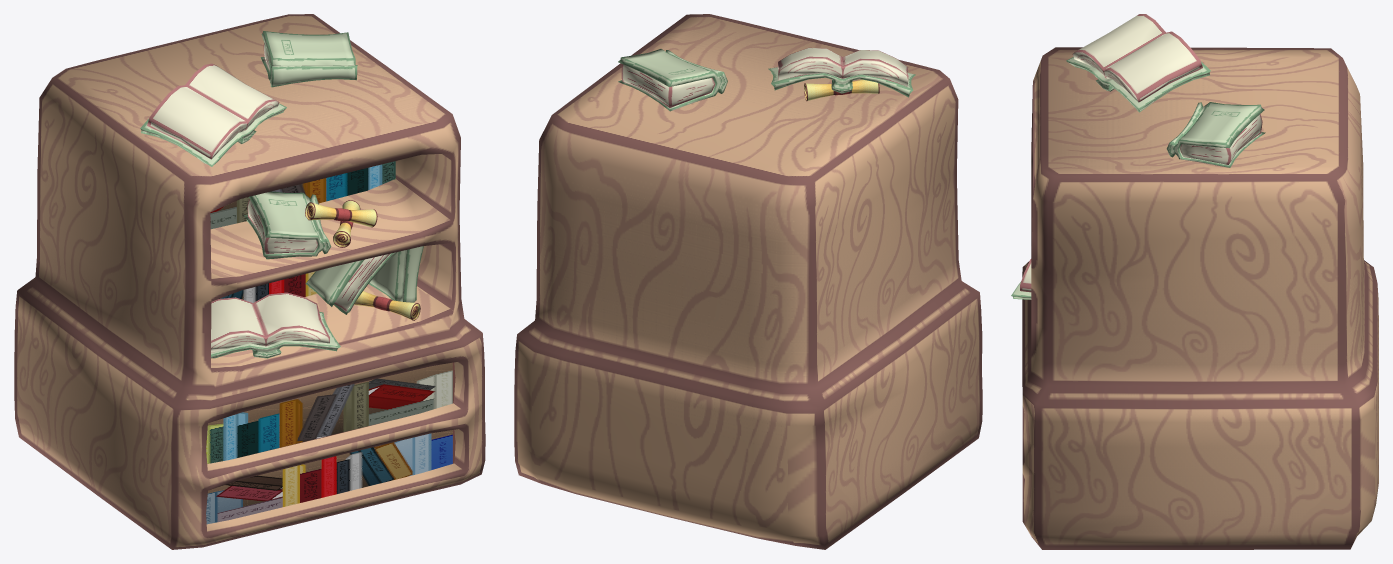
Rendered from Shelfie.fbx.
The picture shows the model from 3 angles, left to right: view 1: azimuth 30°, elevation 25°; view 2: azimuth 150°, elevation 25°; view 3: azimuth 270°, elevation 25°; orthographic projection.
Visible parts, largest first — view 1: ShelfieNBookies; view 2: ShelfieNBookies; view 3: ShelfieNBookies.
Part boxes in pixels (left/top/right/bottom): ShelfieNBookies: left=14, top=14, right=485, bottom=549; ShelfieNBookies: left=514, top=14, right=982, bottom=549; ShelfieNBookies: left=1011, top=14, right=1378, bottom=549.
Size of the model in its own units: 18.72 by 23.29 by 18.91.
Materials: 5 (5 with a texture image).
